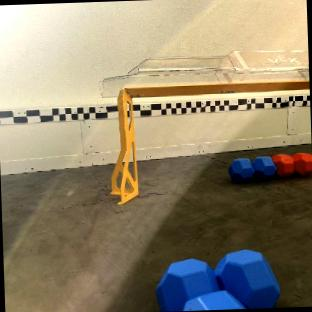Goal: (101, 49, 309, 204)
V5_BLUE: (157, 250, 279, 311), (229, 157, 276, 181)
V5_RED: (273, 153, 312, 177)
